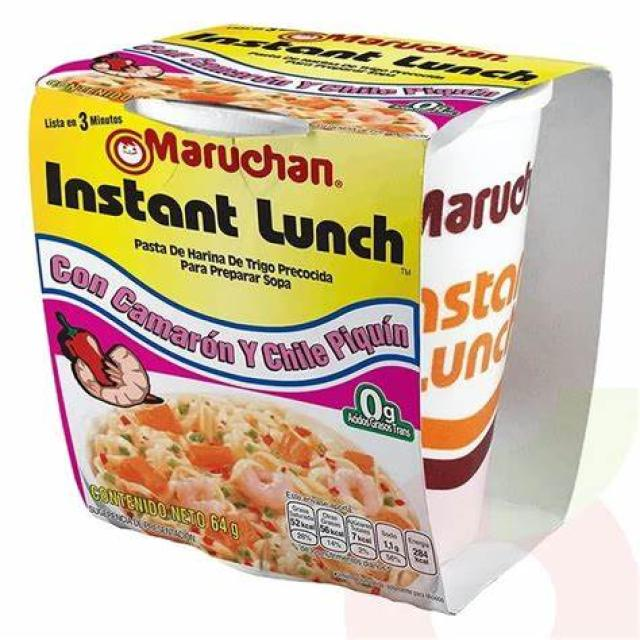Caja: (6, 15, 583, 604)
